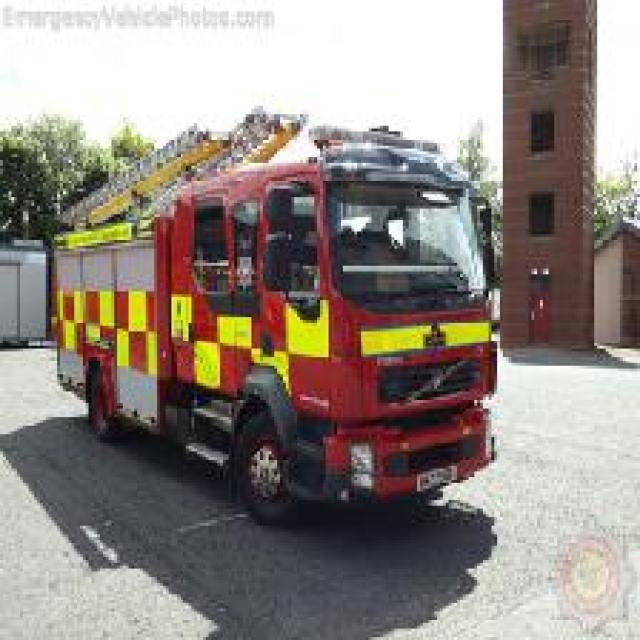emergency: (42, 103, 506, 523)
